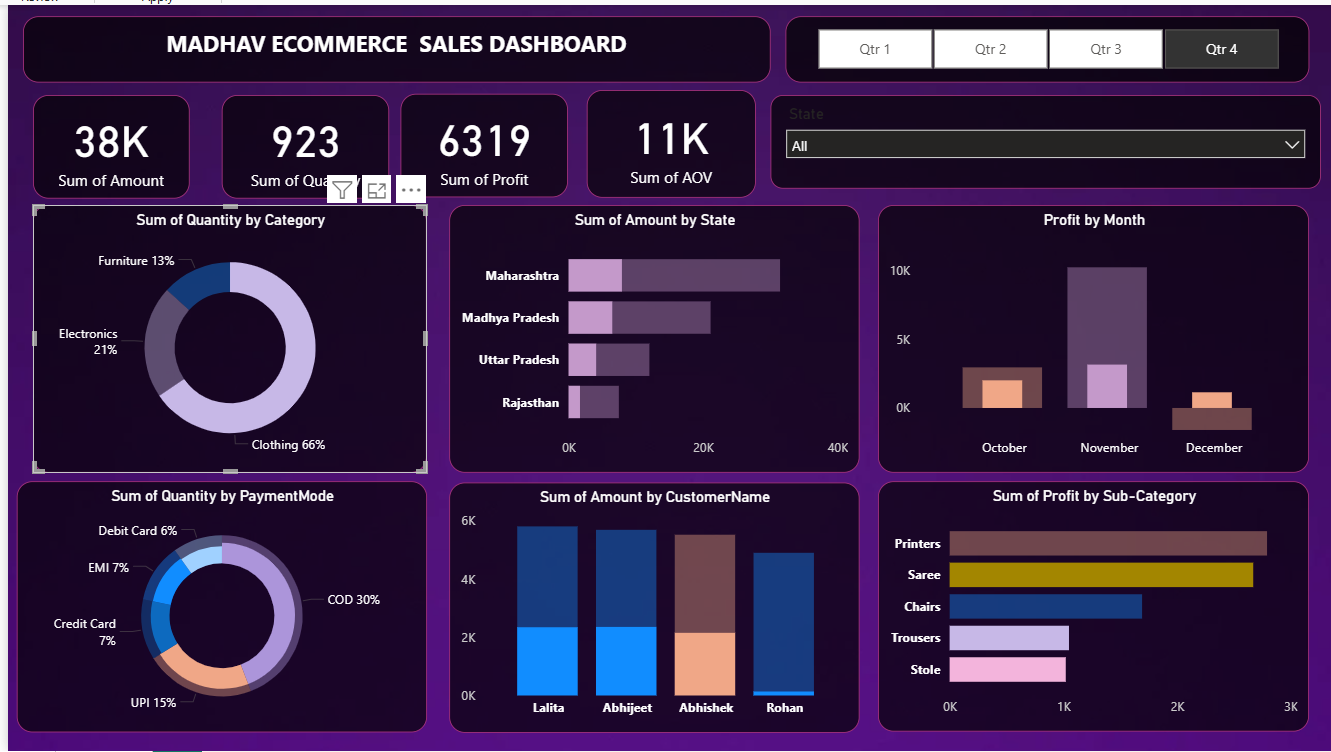

What the dashboard file says about the page in this screenshot:
{"tool":"powerbi","page":{"name":"Page 2","canvas":[1280,720],"ordinal":1},"visuals":[{"type":"textbox","box":[14.5,10.9,721.5,63.9],"z":0},{"type":"columnChart","title":"Profit by Month","fields":{"Y":["Details.Profit"],"Category":["Orders (2).Order Date.Variation.Date Hierarchy.Month"]},"box":[839.7,193,416.2,258.2],"z":1000},{"type":"barChart","fields":{"Category":["Details.Sub-Category"],"Y":["Details.Profit"]},"box":[839.7,459.7,416.2,241.3],"z":2000},{"type":"donutChart","fields":{"Category":["Details.Category"],"Y":["Details.Quantity"]},"box":[24.1,193,380,258.2],"z":3000},{"type":"donutChart","fields":{"Y":["Details.Quantity"],"Category":["Details.PaymentMode"]},"box":[8.4,459.7,395.7,242.5],"z":4000},{"type":"card","fields":{"Values":["Details.Amount"]},"box":[24.1,86.9,150.8,100.1],"z":5000},{"type":"card","fields":{"Values":["Details.Quantity"]},"box":[206.3,86.9,161.7,100.1],"z":6000},{"type":"card","fields":{"Values":["Details.Profit"]},"box":[378.8,85.7,161.7,100.1],"z":7000},{"type":"card","fields":{"Values":["Details.AOV"]},"box":[558.6,82,162.9,103.8],"z":8000},{"type":"barChart","fields":{"Category":["Orders (2).State"],"Y":["Details.Amount"]},"box":[425.9,193,395.7,258.2],"z":9000},{"type":"columnChart","fields":{"Category":["Orders (2).CustomerName"],"Y":["Details.Amount"]},"box":[425.9,460.9,395.7,241.3],"z":10000},{"type":"slicer","fields":{"Values":["Orders (2).Order Date.Variation.Date Hierarchy.Quarter"]},"box":[750.4,10.9,505.5,63.9],"z":11000},{"type":"slicer","fields":{"Values":["Orders (2).State"]},"box":[735.9,86.9,530.8,90.5],"z":12000}]}

Visuals, with their boxes on the page's 1280x720 design canvas (x1, y1, x2, y2). These are canvas units, not pixel positions in the 1331x752 screenshot, which may show the page scaled, cropped or inside an application window:
textbox: 14,11,736,75
"Profit by Month" columnChart: 840,193,1256,451
barChart - Details.Sub-Category x Details.Profit: 840,460,1256,701
donutChart - Details.Category x Details.Quantity: 24,193,404,451
donutChart - Details.Quantity x Details.PaymentMode: 8,460,404,702
card - Details.Amount: 24,87,175,187
card - Details.Quantity: 206,87,368,187
card - Details.Profit: 379,86,540,186
card - Details.AOV: 559,82,722,186
barChart - Orders (2).State x Details.Amount: 426,193,822,451
columnChart - Orders (2).CustomerName x Details.Amount: 426,461,822,702
slicer - Orders (2).Order Date.Variation.Date Hierarchy.Quarter: 750,11,1256,75
slicer - Orders (2).State: 736,87,1267,177
